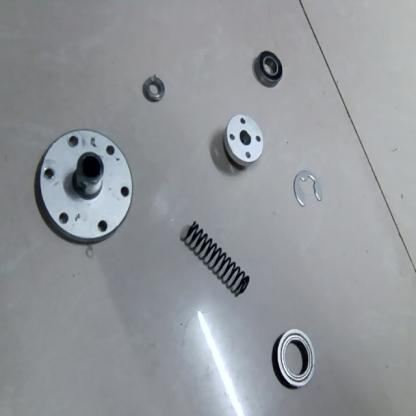FOD: (32, 128, 136, 246), (180, 219, 254, 298), (221, 113, 264, 173), (276, 326, 318, 387), (250, 48, 284, 89), (292, 168, 322, 212), (141, 72, 166, 101)
